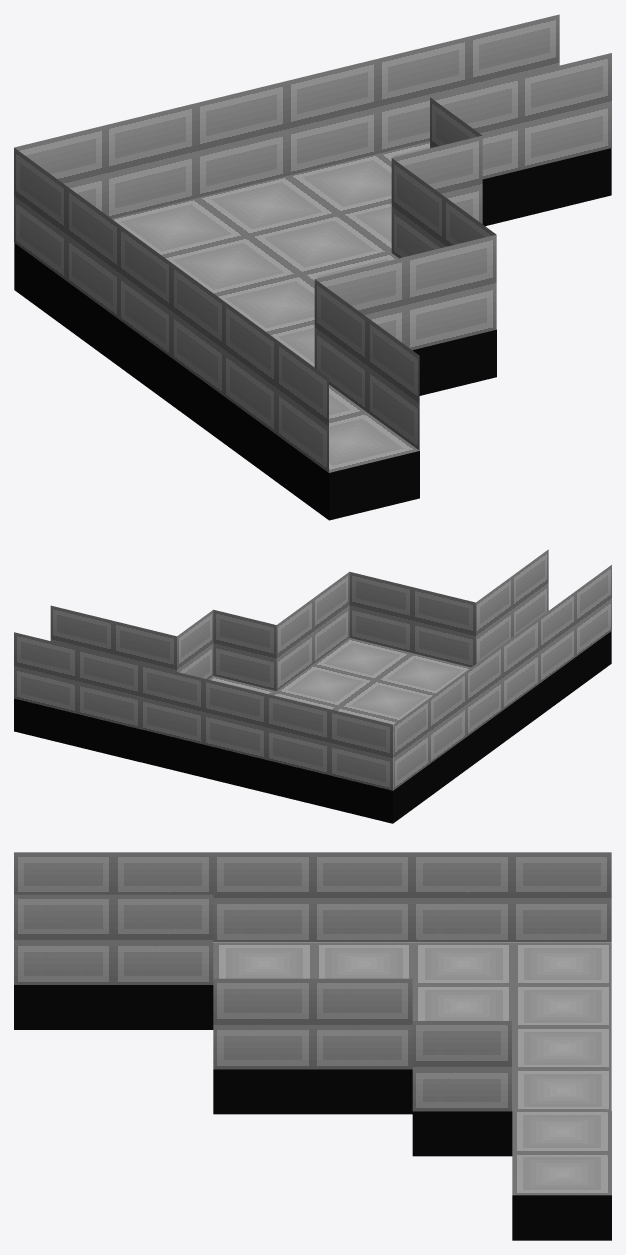
Rendered from CornerPiece.gltf.
The picture shows the model from 3 angles, top to bottom: view 1: azimuth 30°, elevation 25°; view 2: azimuth 150°, elevation 25°; view 3: azimuth 270°, elevation 25°; orthographic projection. The views are drawn at different scales.
Parts seen in each view (by area): view 1: CornerPiece; view 2: CornerPiece; view 3: CornerPiece.
Part boxes in pixels (x1,y1,x2,y2): CornerPiece: (14,14,611,520); CornerPiece: (14,549,611,823); CornerPiece: (14,852,611,1240).
Size of the model in its own units: 12 by 3 by 12.
2 materials, 1 textured.
